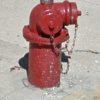Hydrant: (19, 1, 86, 91)
